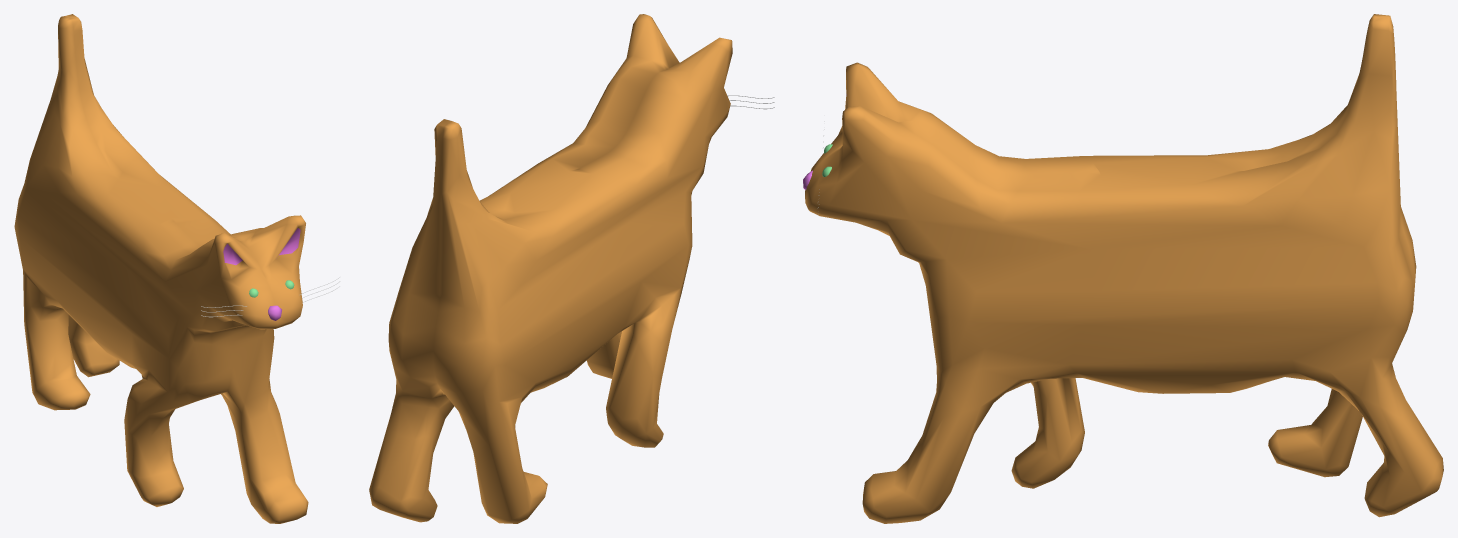
File: low_poly_cat_cartoon.glb
3 renders of one model, left to right at view 1: azimuth 30°, elevation 25°; view 2: azimuth 150°, elevation 25°; view 3: azimuth 270°, elevation 25°, orthographic. The views are drawn at different scales.
Parts seen in each view (by area): view 1: Cube; view 2: Cube; view 3: Cube.
Boxes of the visible parts, bbox=[...] form: Cube: bbox=[14, 14, 308, 523]; Cube: bbox=[369, 14, 732, 523]; Cube: bbox=[805, 14, 1443, 523].
Size of the model in its own units: 3.19 by 8.45 by 9.92.
